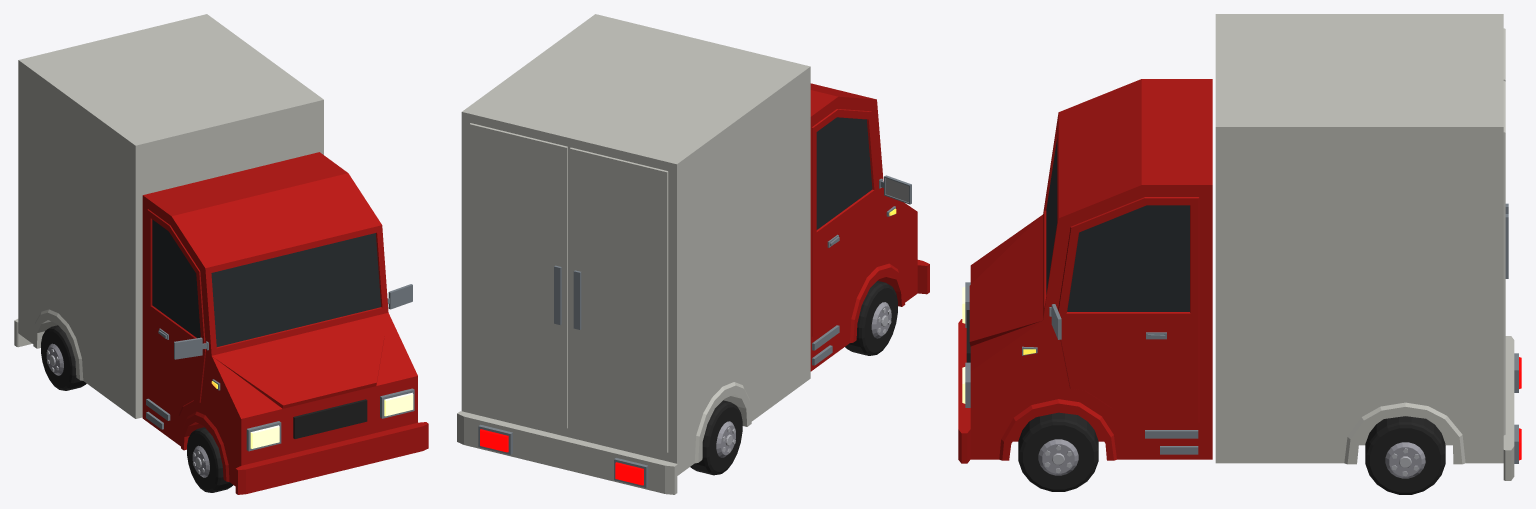
The model's file is SK_Car_04_AsStaticMesh.fbx.
3 views of the same model, side by side, from view 1: azimuth 30°, elevation 25°; view 2: azimuth 150°, elevation 25°; view 3: azimuth 270°, elevation 25° (orthographic). The views are drawn at different scales.
Visible parts, largest first — view 1: SK_Car_04_AsStaticMesh_LOD0; view 2: SK_Car_04_AsStaticMesh_LOD0; view 3: SK_Car_04_AsStaticMesh_LOD0.
Boxes of the visible parts, box(x1,y1,x2,y2) form: SK_Car_04_AsStaticMesh_LOD0: box(14, 14, 428, 494); SK_Car_04_AsStaticMesh_LOD0: box(457, 14, 929, 494); SK_Car_04_AsStaticMesh_LOD0: box(958, 14, 1521, 494).
Size of the model in its own units: 254 by 423 by 305.
Materials: 1 (1 with a texture image).
